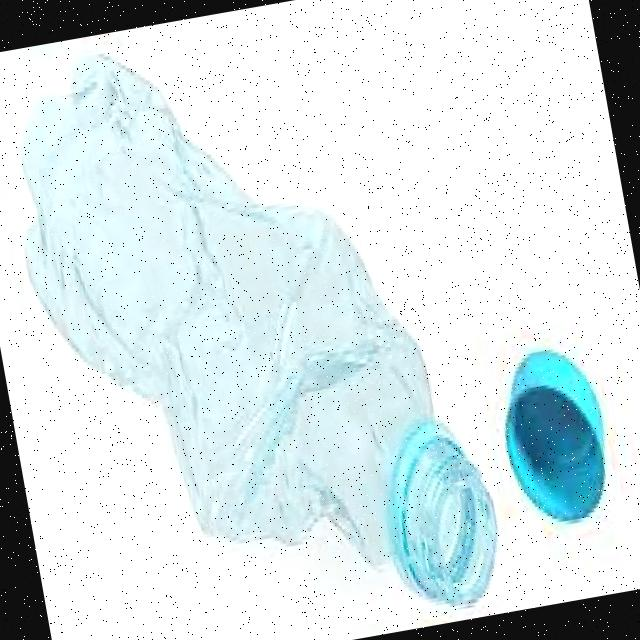bottle: (0, 0, 515, 640)
cap: (481, 340, 621, 530)
